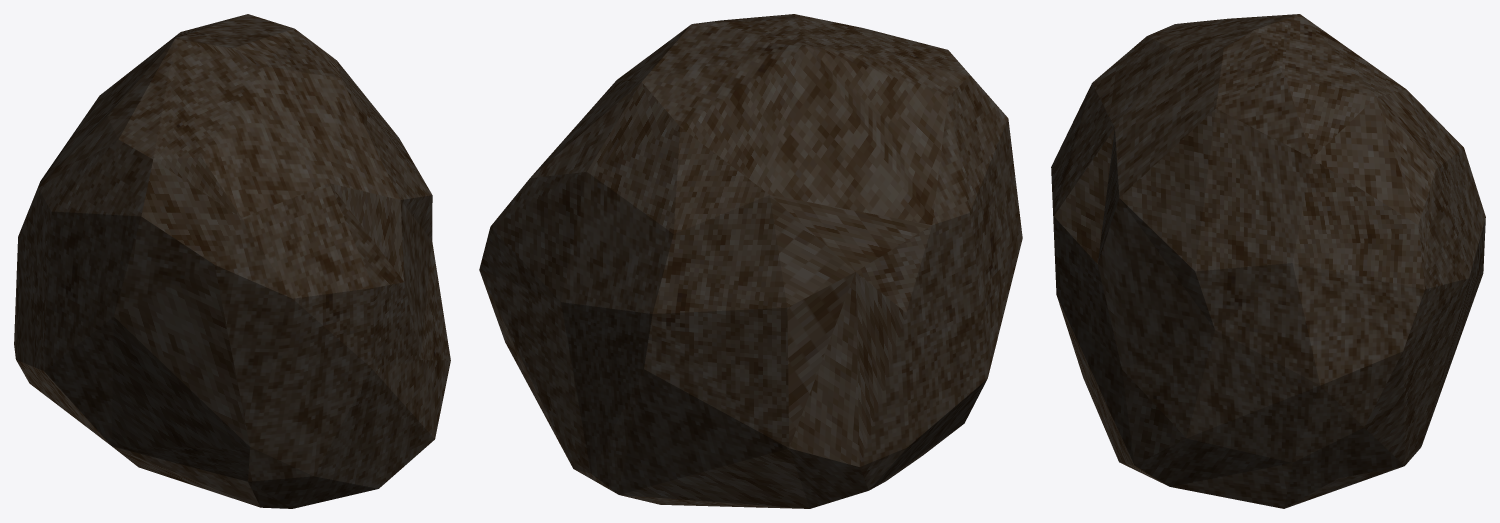
The model's file is cave-stone-piece4.glb.
3 renders of one model, left to right at view 1: azimuth 30°, elevation 25°; view 2: azimuth 150°, elevation 25°; view 3: azimuth 270°, elevation 25°, orthographic. The views are drawn at different scales.
Visible parts, largest first — view 1: Cube_cell.019; view 2: Cube_cell.019; view 3: Cube_cell.019.
Boxes of the visible parts, <box> form: Cube_cell.019: <box>14,14,450,508</box>; Cube_cell.019: <box>479,14,1022,508</box>; Cube_cell.019: <box>1051,14,1485,508</box>.
Bounding box in the file's own units: 0.8328 × 0.8291 × 0.7837.
1 material, 1 textured.
